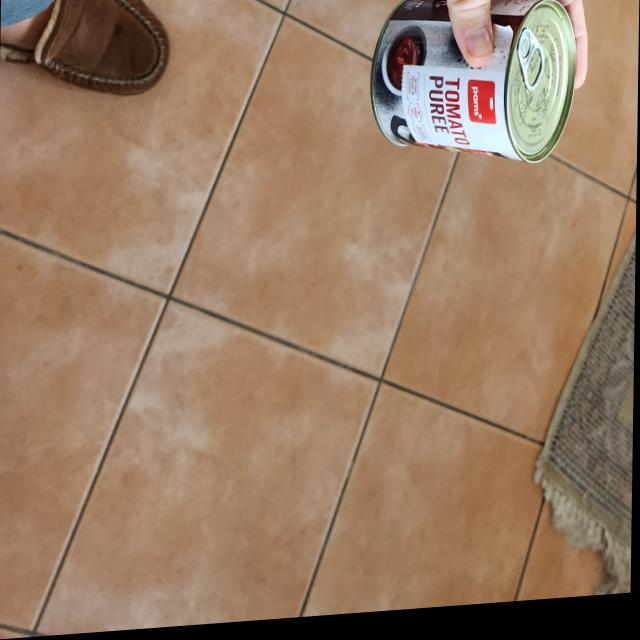tomato puree: (365, 0, 579, 182)
